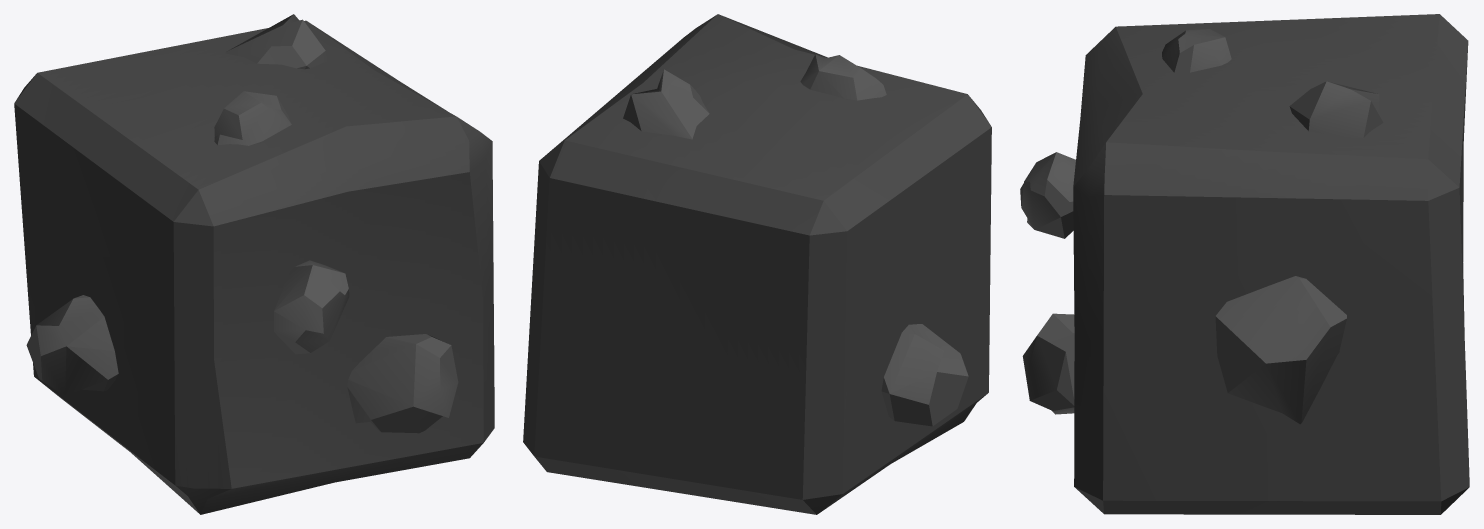
File: Rock_B_1.obj
The picture shows the model from 3 angles, left to right: view 1: azimuth 30°, elevation 25°; view 2: azimuth 150°, elevation 25°; view 3: azimuth 270°, elevation 25°; orthographic projection. The views are drawn at different scales.
Parts seen in each view (by area): view 1: Cube.027; view 2: Cube.027; view 3: Cube.027.
Part boxes in pixels (x1,y1,x2,y2): Cube.027: [14, 14, 494, 514]; Cube.027: [523, 14, 991, 514]; Cube.027: [1020, 14, 1469, 514].
Size of the model in its own units: 2.74 by 2.33 by 2.37.
